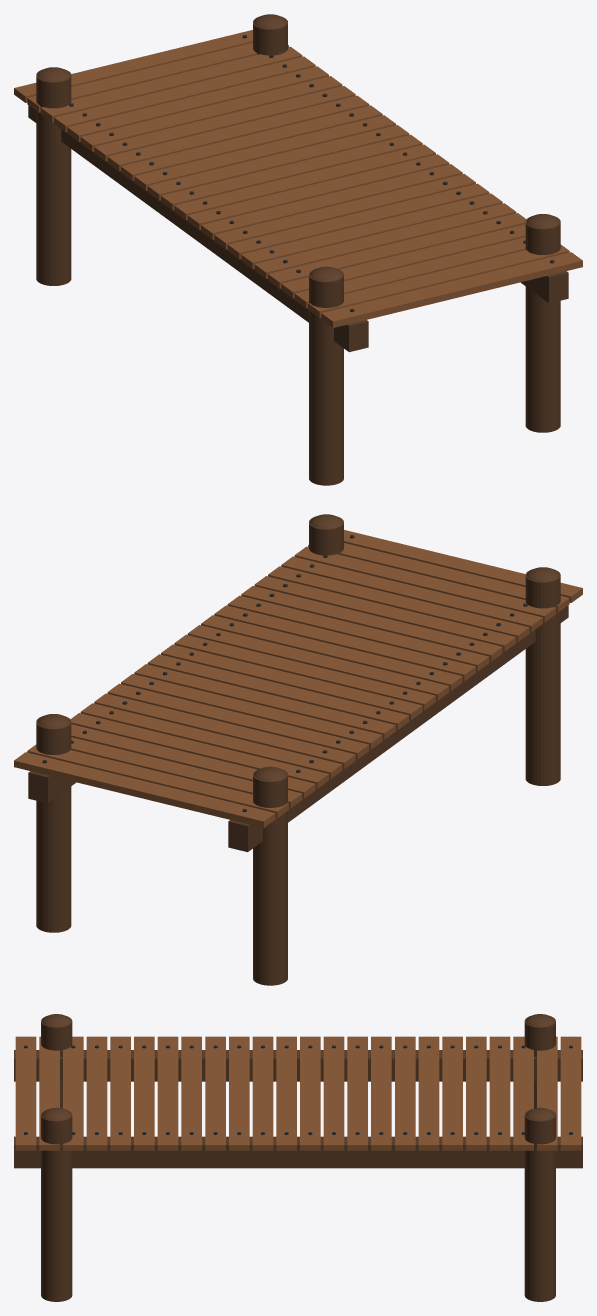
File: wooden-jetty.glb
The picture shows the model from 3 angles, top to bottom: view 1: azimuth 30°, elevation 25°; view 2: azimuth 150°, elevation 25°; view 3: azimuth 270°, elevation 25°; orthographic projection. The views are drawn at different scales.
Visible parts, largest first — view 1: Cylinder.002, Cylinder, Cylinder.001, Cube.002, Cube, Cube.012, Cube.009, Cube.020, Cube.015, Cube.018, Cube.022, Cube.008 (+18 smaller); view 2: Cylinder, Cylinder.002, Cylinder.003, Cube.025, Cube, Cube.015, Cube.018, Cube.007, Cube.005, Cube.009, Cube.012, Cube.014 (+18 smaller); view 3: Cube.001, Cylinder.001, Cylinder.003, Cube, Cube.002, Cube.005, Cube.008, Cube.012, Cube.015, Cube.019, Cube.022, Cube.025 (+18 smaller).
Boxes of the visible parts, x1,y1,x2,y2 form: Cylinder.002: [36, 69, 71, 285]; Cylinder: [309, 269, 343, 485]; Cylinder.001: [525, 216, 560, 432]; Cube.002: [321, 252, 582, 327]; Cube: [28, 105, 368, 352]; Cube.012: [187, 154, 449, 230]; Cube.009: [227, 183, 489, 259]; Cube.020: [80, 76, 342, 151]; Cube.015: [147, 125, 409, 200]; Cube.018: [107, 95, 369, 171]; Cube.022: [54, 56, 315, 132]; Cube.008: [241, 193, 502, 269]; Cylinder: [525, 569, 560, 785]; Cylinder.002: [253, 769, 287, 985]; Cylinder.003: [36, 716, 71, 932]; Cube.025: [14, 752, 275, 827]; Cube: [228, 605, 568, 852]; Cube.015: [147, 654, 409, 730]; Cube.018: [107, 683, 369, 759]; Cube.007: [254, 576, 516, 651]; Cube.005: [281, 556, 542, 632]; Cube.009: [227, 595, 489, 671]; Cube.012: [187, 625, 449, 700]; Cube.014: [161, 644, 422, 720]; Cube.001: [14, 1136, 582, 1168]; Cylinder.001: [41, 1110, 72, 1301]; Cylinder.003: [524, 1110, 555, 1301]; Cube: [14, 1050, 582, 1081]; Cube.002: [15, 1036, 36, 1150]; Cube.005: [86, 1036, 107, 1150]; Cube.008: [157, 1036, 178, 1150]; Cube.012: [252, 1036, 273, 1150]; Cube.015: [323, 1036, 344, 1150]; Cube.019: [418, 1036, 439, 1150]; Cube.022: [489, 1036, 510, 1150]; Cube.025: [560, 1036, 581, 1150].
Size of the model in its own units: 1.8 by 1.43 by 4.
